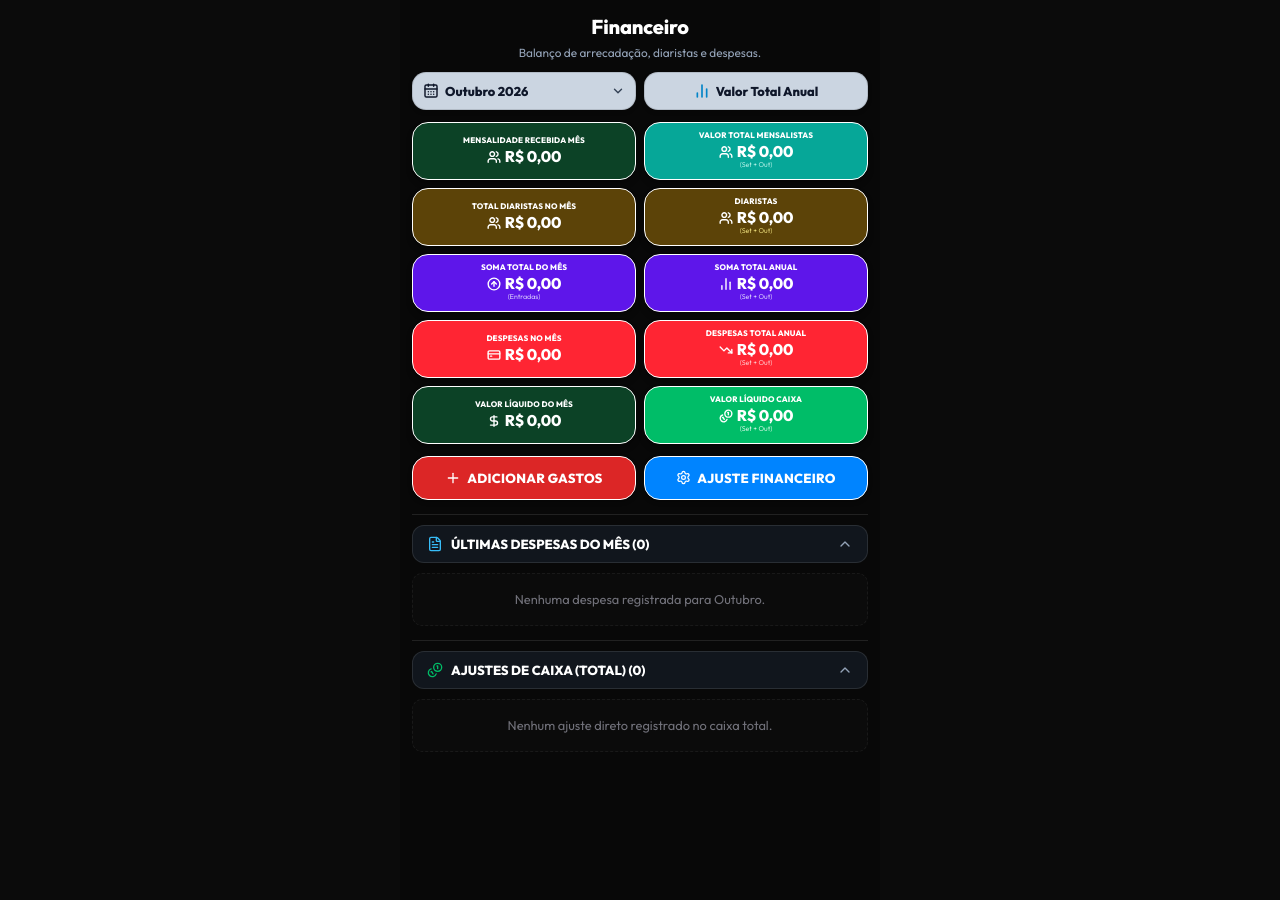
Test: Financeiro Component — RDA Reprodução Fiel do Layout Mobile › ETAPA 5 — Botões Inferiores (Adicionar Gastos e Ajuste Financeiro) › deve abrir o modal de cadastro de despesa ao clicar em ADICIONAR GASTOS
The width and height of the screenshot is (1280, 900).
Expected: the text "ADICIONAR GASTOS" is shown, [467,470,603,486]
Click the button "ADICIONAR GASTOS".
click(524, 478)  # box [412,456,636,500]
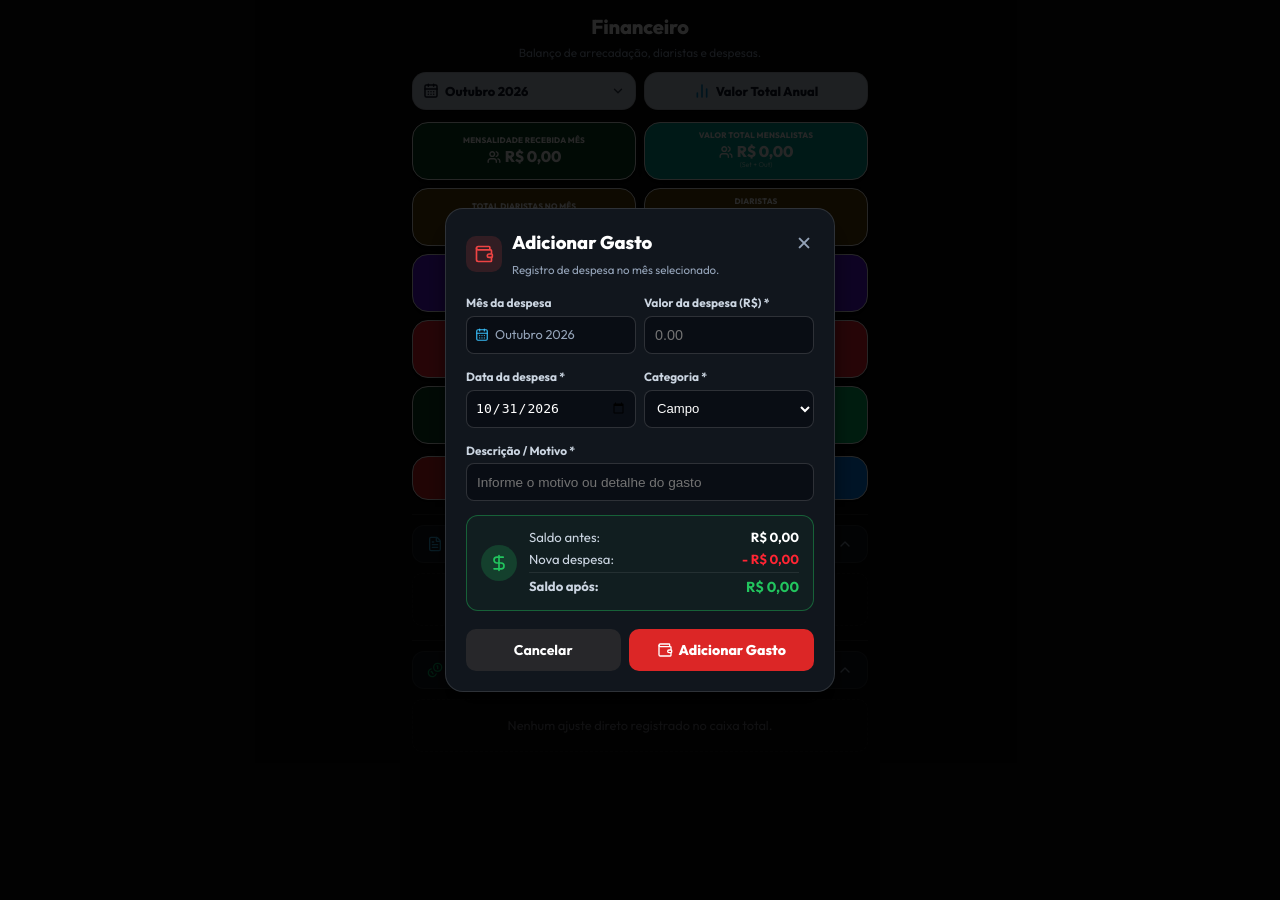
Expected: the field with placeholder "Informe o motivo ou detalhe do gasto" is shown, [466,464,814,502]
